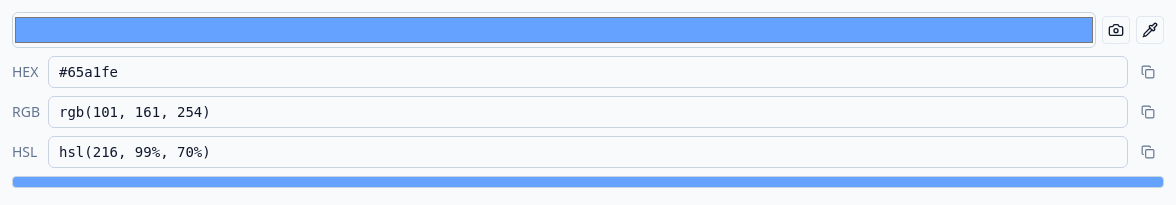
Test: ColorConverterWidget › picking a color with the native color input updates every field
Type "#00ff00" into the colour field named "Pick a color" at (554, 30), box [12,12,1096,48]
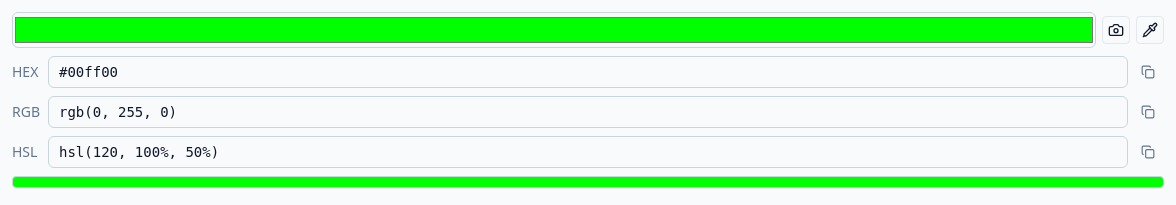
Check: the field labelled "HEX" holds "#00ff00", box [48,56,1128,88]
Check: the field labelled "RGB" holds "rgb(0, 255, 0)", box [48,96,1128,128]
